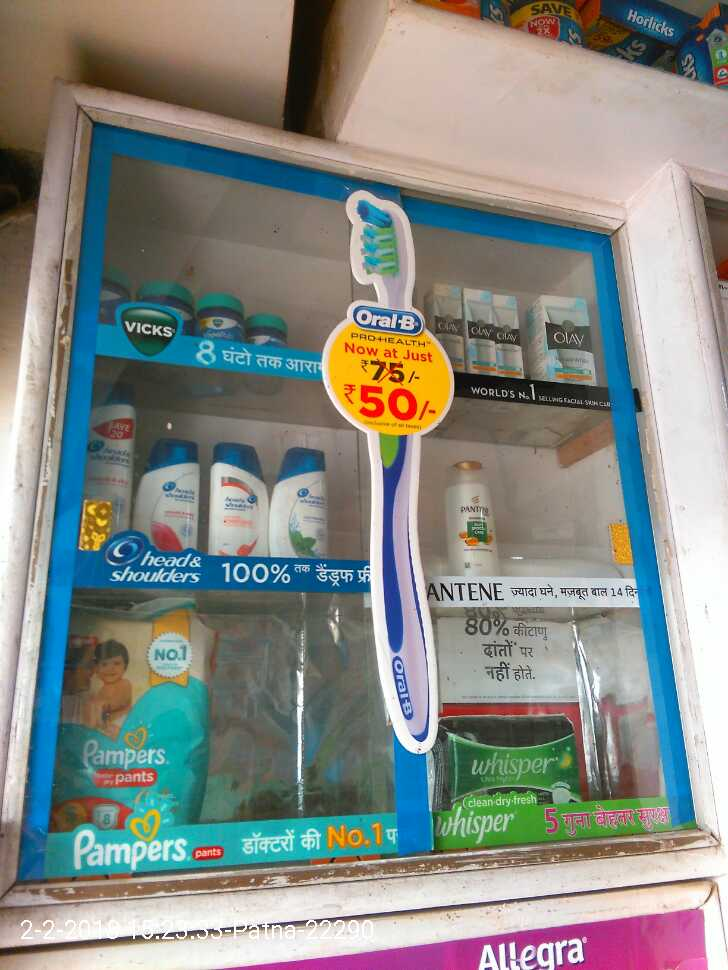beauty: (267, 440, 347, 568), (136, 441, 205, 554), (534, 290, 608, 393), (86, 389, 139, 529), (201, 443, 264, 558), (441, 455, 498, 568), (465, 284, 509, 373), (422, 285, 465, 355), (495, 293, 526, 382)
pharmacy: (44, 609, 225, 834), (430, 722, 575, 809), (196, 292, 238, 355), (246, 308, 294, 354)
